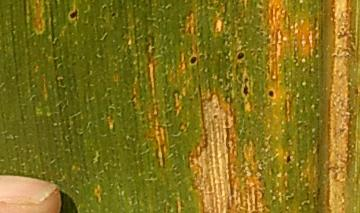tarspot: (186, 51, 201, 69), (68, 5, 81, 22), (233, 49, 247, 62), (284, 150, 294, 168), (238, 83, 250, 98), (265, 88, 277, 99), (108, 9, 119, 20)
